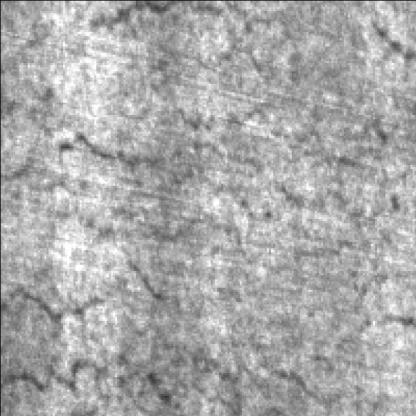crazing: (0, 112, 262, 325), (36, 91, 376, 221), (0, 282, 304, 405), (110, 341, 366, 416)
